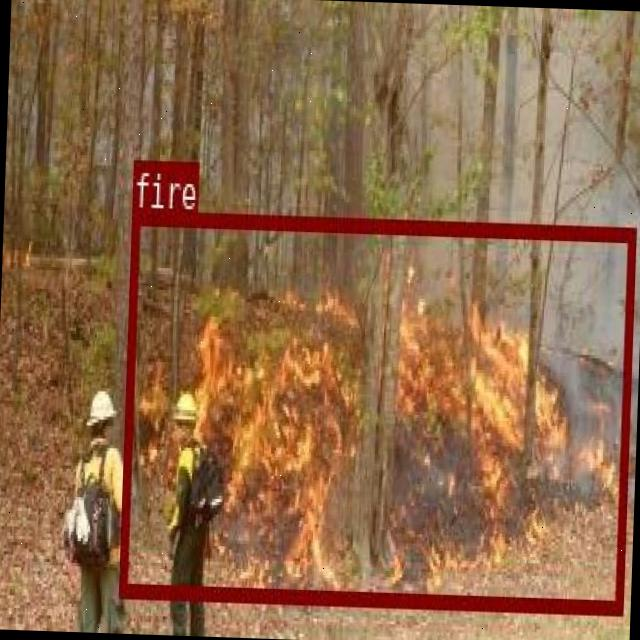fire: (118, 208, 634, 612)
